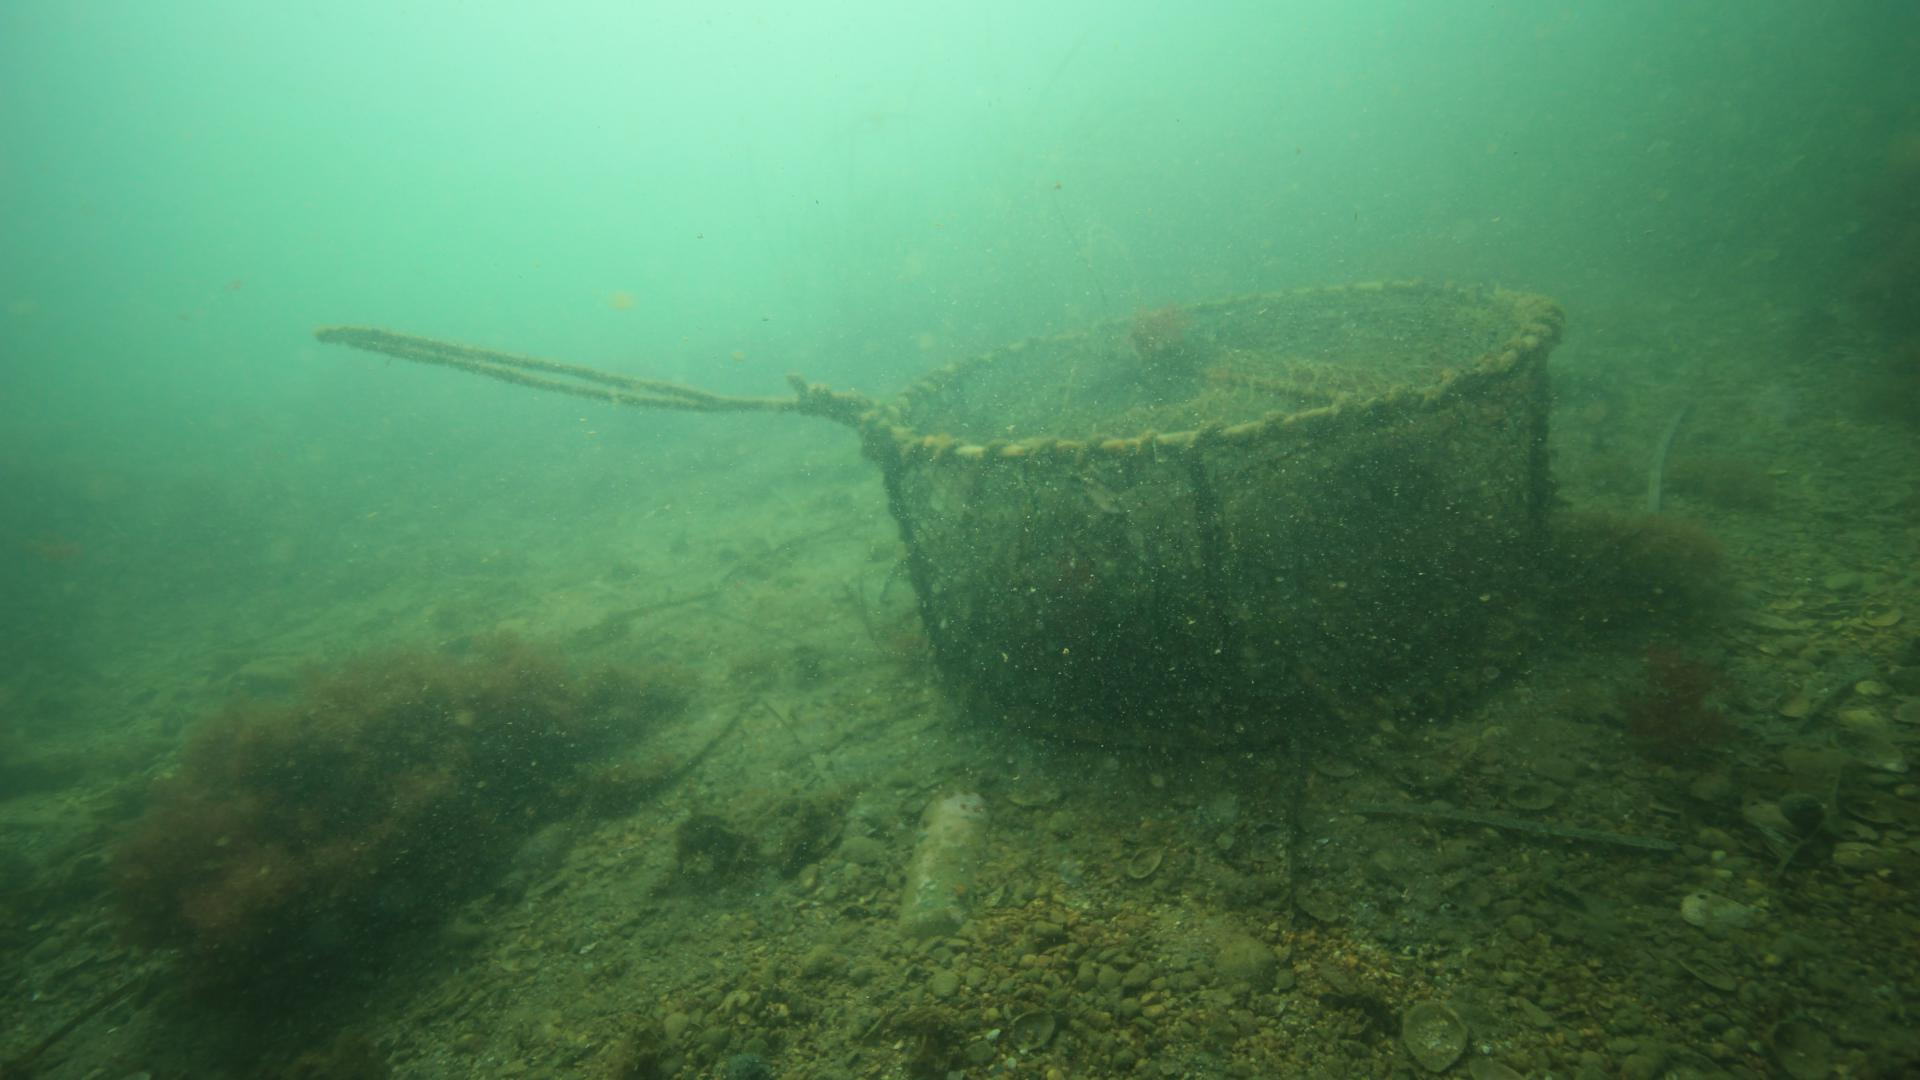circular fish trap: (866, 276, 1567, 753)
rope: (310, 324, 864, 425)
